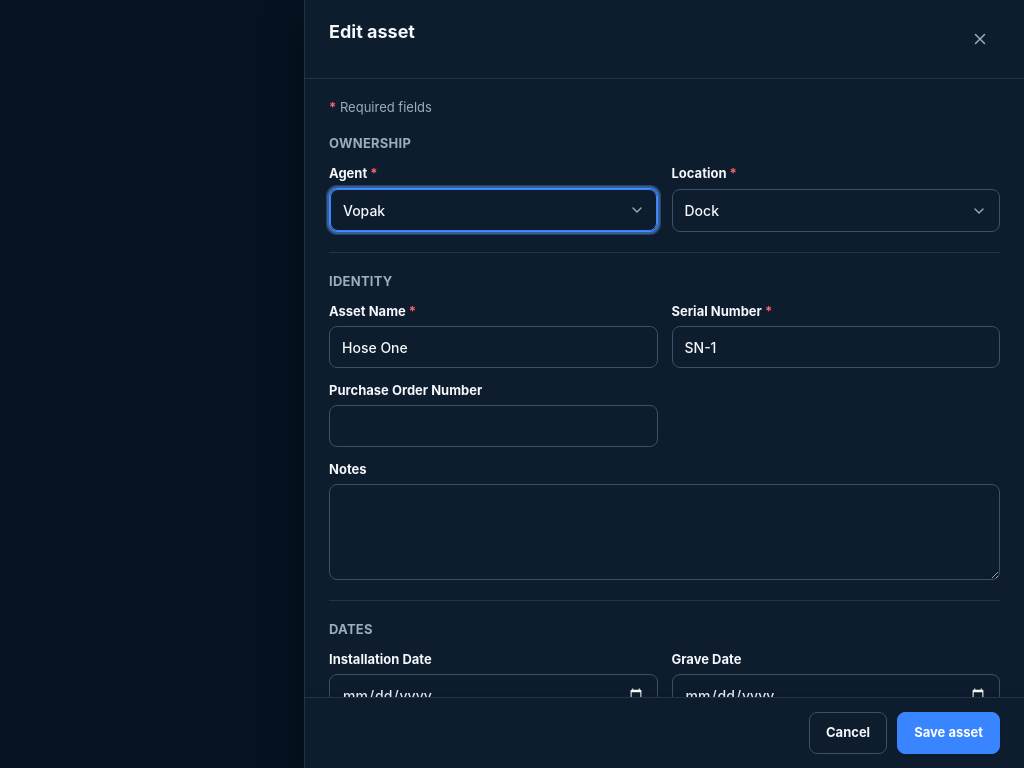
Test: shared form behaviour on the Asset form › keeps everything entered when the save fails, and the retry can succeed
Type "-NEW" into the field labelled "Serial Number". click: point(836, 347)
box: [672,326,1000,368]
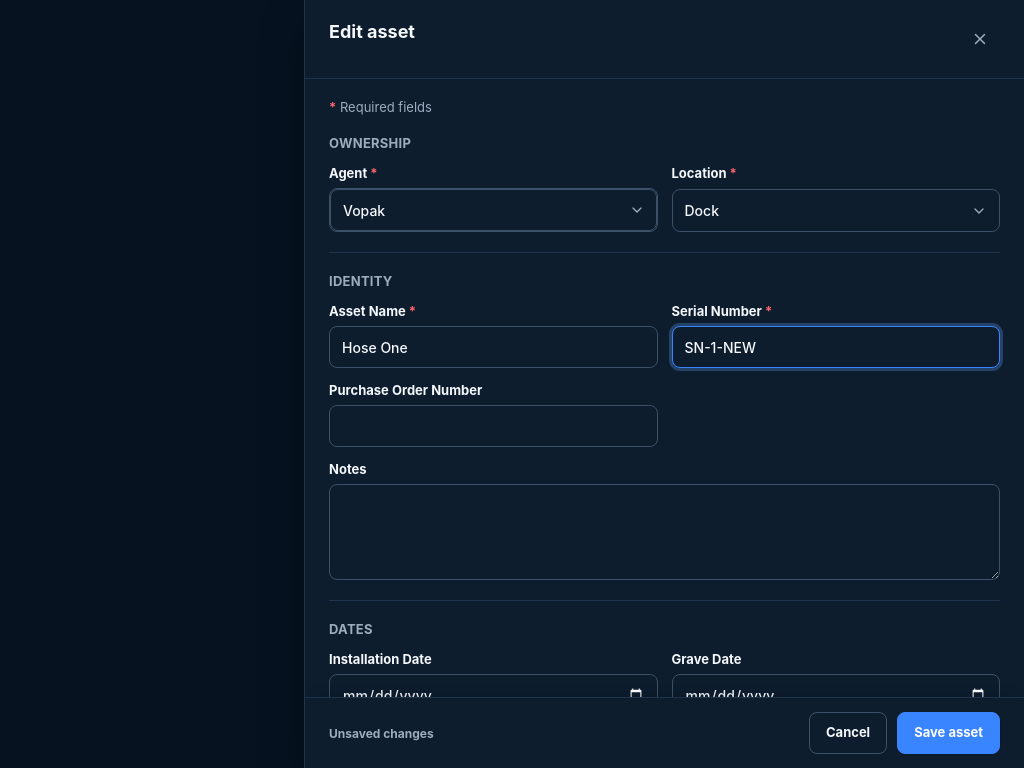
Click the button "Save asset". click: point(949, 733)
box: [897,712,1000,754]
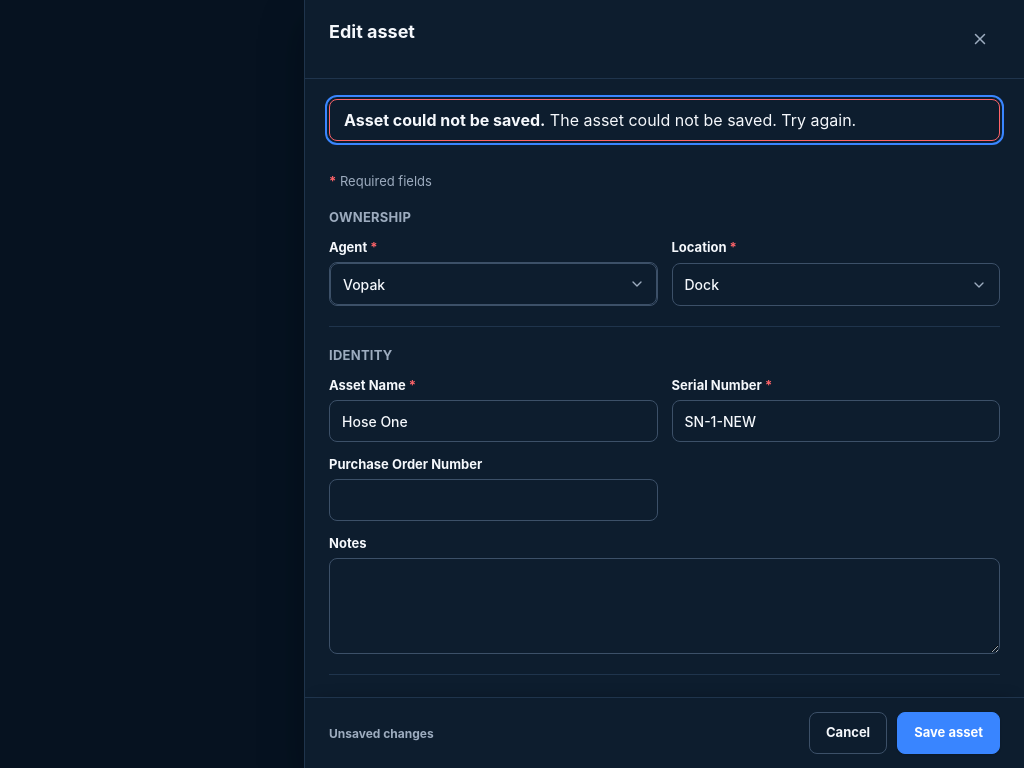
Result: the field labelled "Serial Number" holds "SN-1-NEW" at [672,400,1000,442]
Result: the text "Unsaved changes" is shown at [329,726,434,740]
Result: the message "Asset could not be saved. The asset could not be saved. Try again." is shown at [329,99,1000,141]
Click the button "Save asset". click: point(949, 733)
box: [897,712,1000,754]
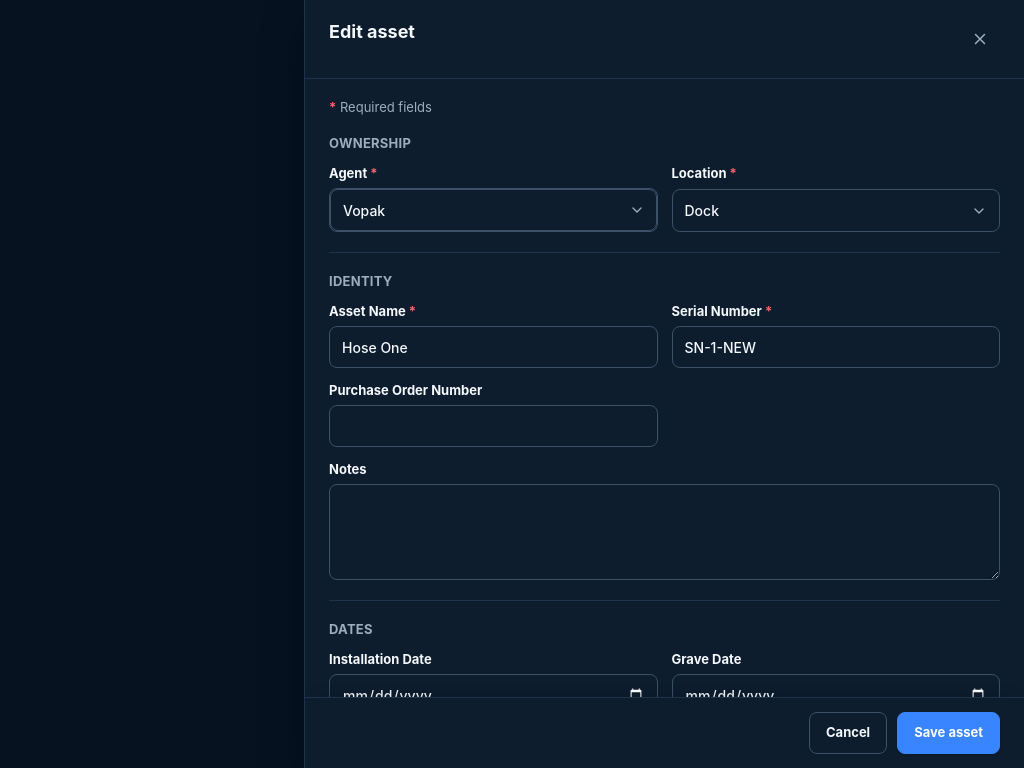
Result: the text "Unsaved changes" is gone
